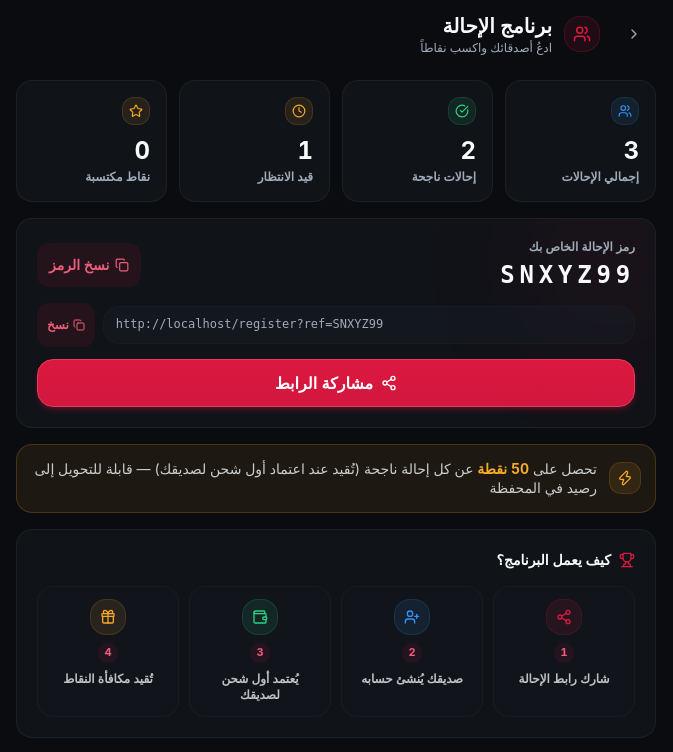
Test: ReferralsPage — outage ≠ empty, copy + points contracts (R118-A5 #11) › the link CopyBtn writes the full ?ref=CODE deep link to the clipboard
expect the text "SNXYZ99" is shown: met, box top-left (500, 259), bottom-right (635, 291)
Click the button "نسخ". click: (66, 325)
box: top-left (37, 303), bottom-right (95, 347)
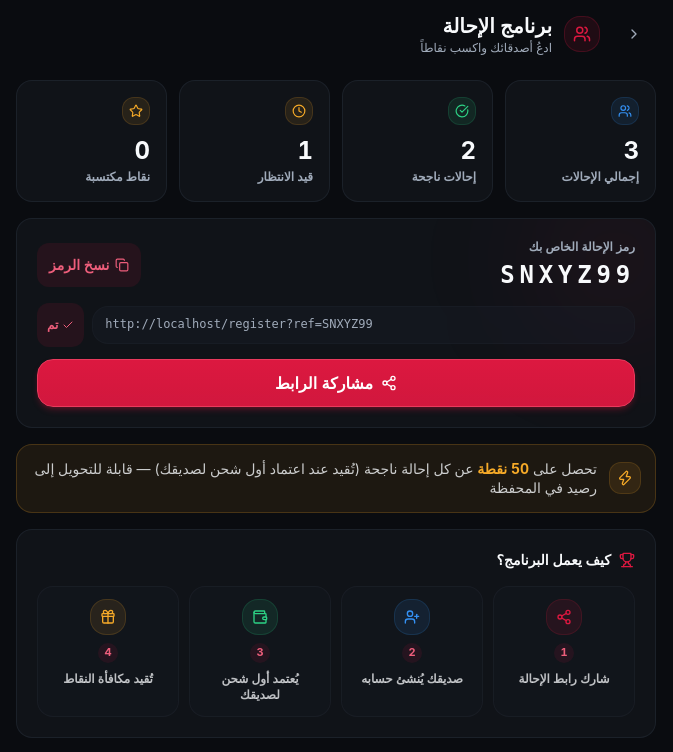
expect the button "تم" is shown: met, box top-left (37, 303), bottom-right (84, 347)
